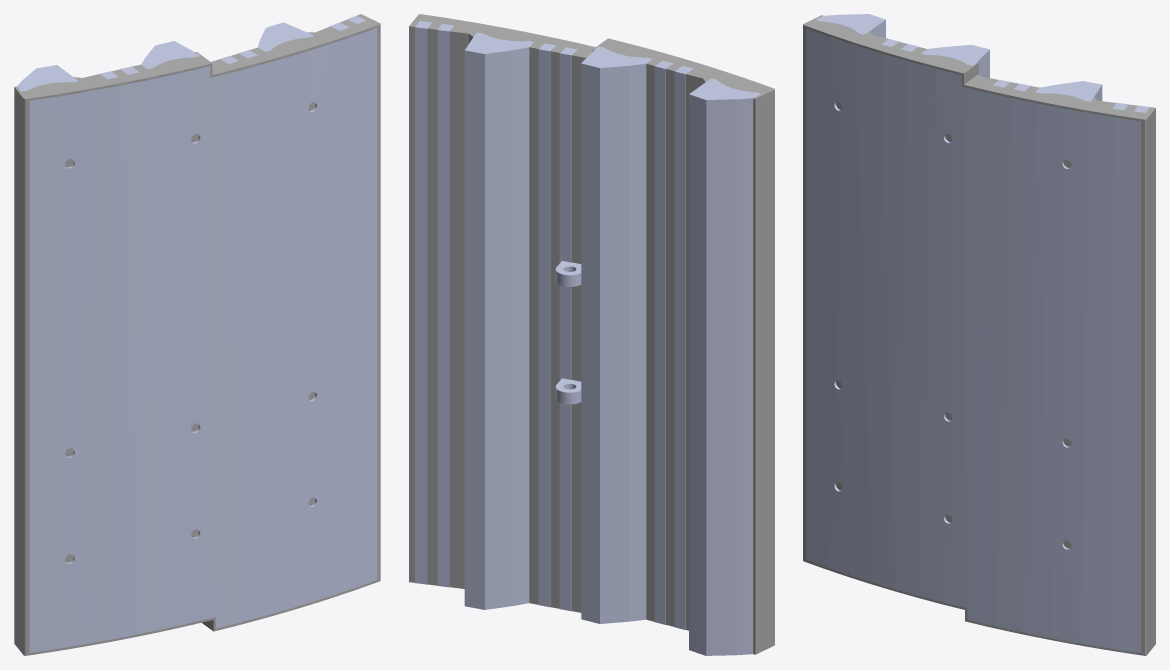
The model's file is BallMill_NGDS_ShellLiner_Integrated_Composite_[P01080_6_B].glb.
The picture shows the model from 3 angles, left to right: view 1: azimuth 30°, elevation 25°; view 2: azimuth 150°, elevation 25°; view 3: azimuth 330°, elevation 25°; orthographic projection. The views are drawn at different scales.
Parts seen in each view (by area): view 1: Node1, Node2; view 2: Node1, Node2; view 3: Node1, Node2.
Part boxes in pixels (x1,y1,x2,y2): Node1: [17, 16, 377, 652]; Node2: [14, 14, 380, 655]; Node1: [415, 21, 760, 655]; Node2: [409, 14, 774, 654]; Node1: [806, 14, 1149, 652]; Node2: [803, 15, 1155, 655].
Size of the model in its own units: 1.59 by 2.42 by 0.2989.
